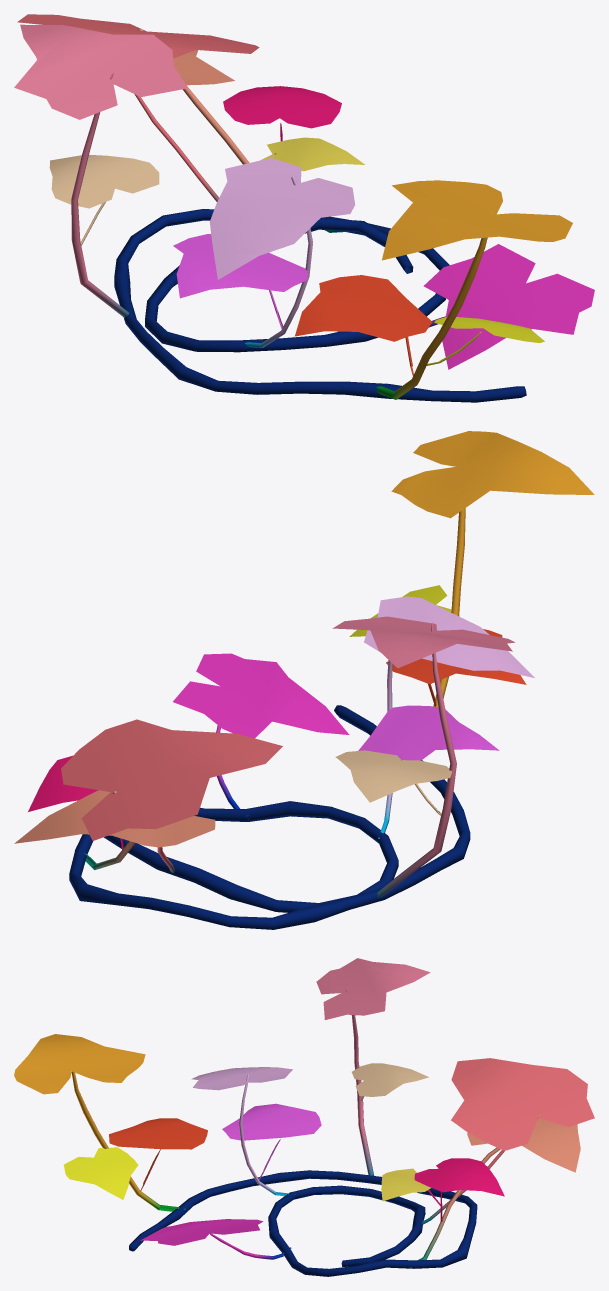
The model's file is English_Ivy_xfcnebhqx_High_xfcnebhqx_VarH_LOD1.fbx.
3 renders of one model, top to bottom at view 1: azimuth 30°, elevation 25°; view 2: azimuth 150°, elevation 25°; view 3: azimuth 270°, elevation 25°, orthographic. The views are drawn at different scales.
Visible parts, largest first — view 1: _1dos_VarH_LOD1; view 2: _1dos_VarH_LOD1; view 3: _1dos_VarH_LOD1.
Boxes of the visible parts, x1=… form: _1dos_VarH_LOD1: x1=14, y1=14, x2=594, y2=402; _1dos_VarH_LOD1: x1=14, y1=431, x2=594, y2=929; _1dos_VarH_LOD1: x1=14, y1=958, x2=594, y2=1276.
Size of the model in its own units: 19.68 by 12.75 by 33.12.
